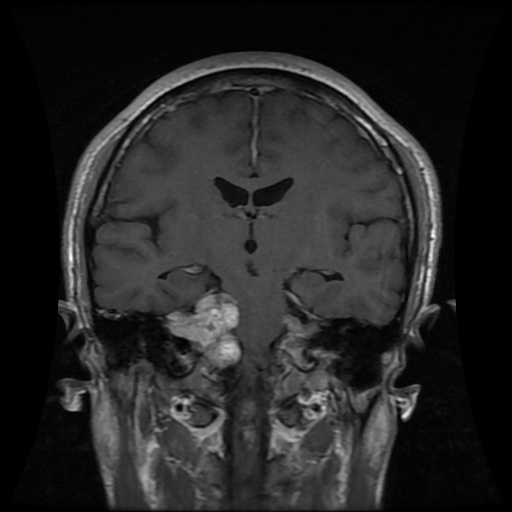meningioma: (166, 292, 243, 371)
